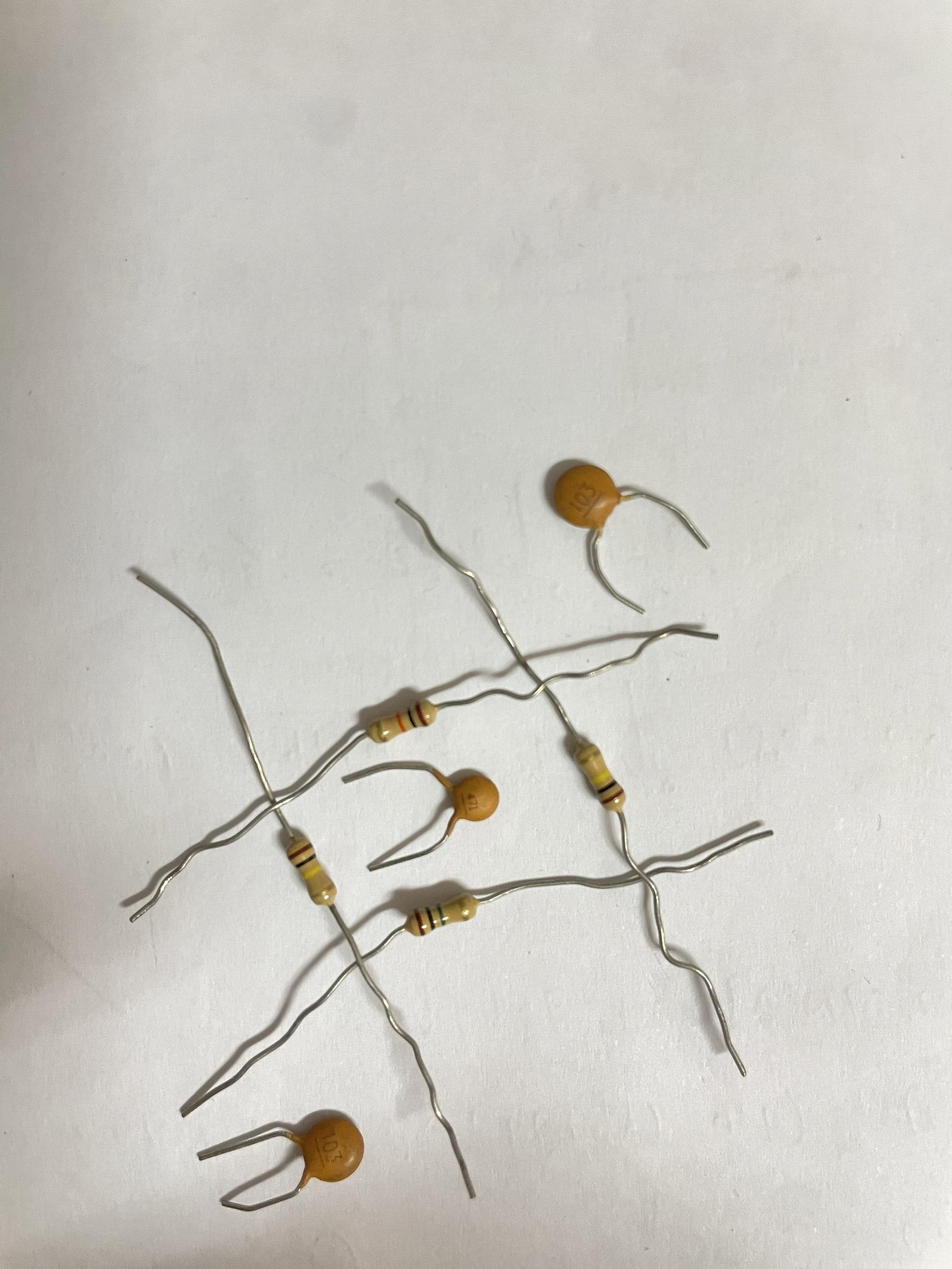resistor: (573, 743, 626, 813), (289, 838, 338, 904), (404, 894, 478, 937), (368, 700, 437, 743)
